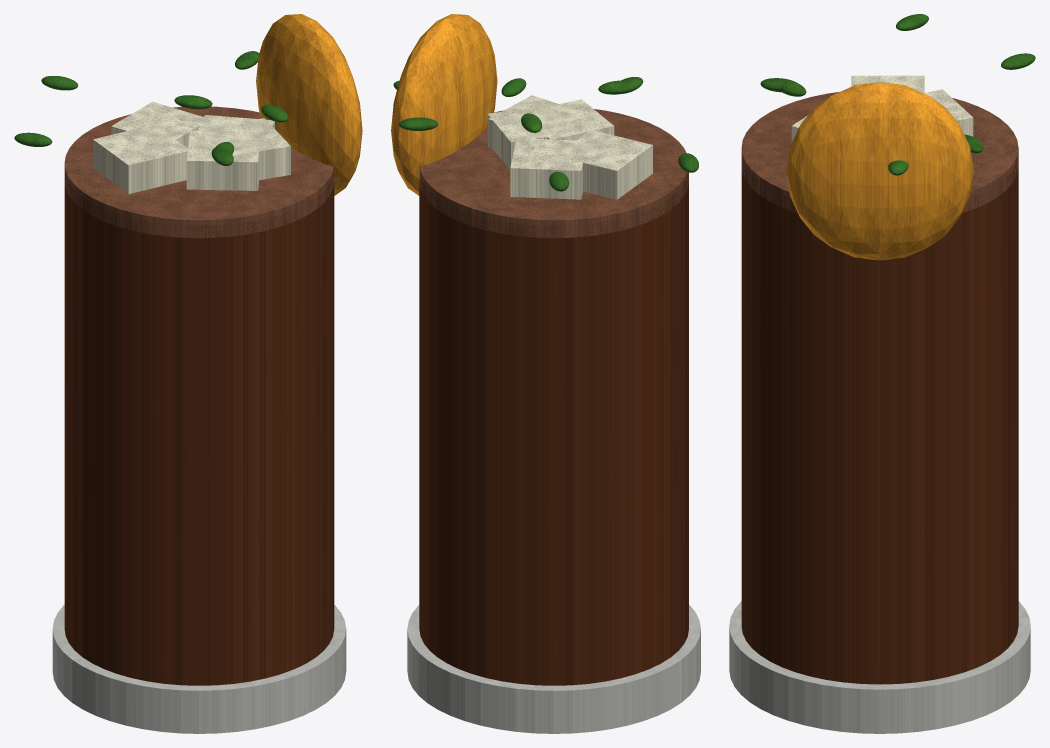
Rendered from origen-cafetero.glb.
The picture shows the model from 3 angles, left to right: view 1: azimuth 30°, elevation 25°; view 2: azimuth 150°, elevation 25°; view 3: azimuth 270°, elevation 25°; orthographic projection. The views are drawn at different scales.
Parts seen in each view (by area): view 1: part1, part0, part2, part3, part4, part5; view 2: part1, part0, part2, part4, part3, part5; view 3: part1, part4, part0, part2, part5, part3.
Boxes of the visible parts, box(x1,y1,x2,y2) form: part1: box(64, 175, 334, 685); part0: box(52, 604, 346, 733); part2: box(64, 106, 334, 238); part3: box(93, 101, 290, 193); part4: box(256, 14, 362, 195); part5: box(14, 51, 288, 165); part1: box(419, 178, 688, 685); part0: box(407, 605, 700, 733); part2: box(419, 109, 688, 238); part4: box(391, 14, 497, 195); part3: box(487, 95, 652, 199); part5: box(393, 77, 698, 191); part1: box(741, 164, 1018, 684); part4: box(786, 82, 973, 260); part0: box(729, 601, 1030, 733); part2: box(741, 92, 1018, 212); part5: box(760, 14, 1035, 175); part3: box(791, 75, 973, 142).
Size of the model in its own units: 0.0918 by 0.174 by 0.0752.
Materials: 6 (6 with a texture image).
